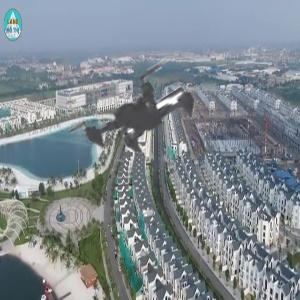drone: (35, 12, 260, 237)
